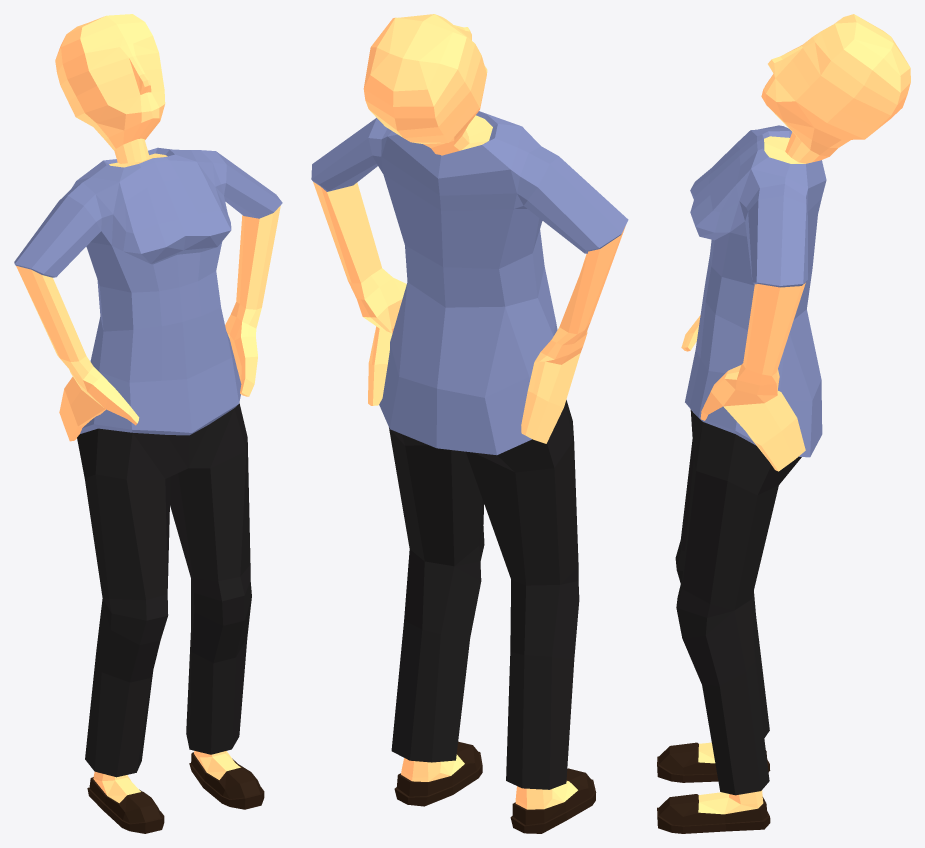
File: female_looking_up.glb
The picture shows the model from 3 angles, left to right: view 1: azimuth 30°, elevation 25°; view 2: azimuth 150°, elevation 25°; view 3: azimuth 270°, elevation 25°; orthographic projection. The views are drawn at different scales.
Visible parts, largest first — view 1: Female_LookingUp; view 2: Female_LookingUp; view 3: Female_LookingUp.
Boxes of the visible parts, box(x1,y1,x2,y2) form: Female_LookingUp: box(14, 14, 282, 833); Female_LookingUp: box(311, 14, 628, 833); Female_LookingUp: box(657, 14, 910, 833).
Bounding box in the file's own units: 0.7029 × 1.85 × 0.5491.
